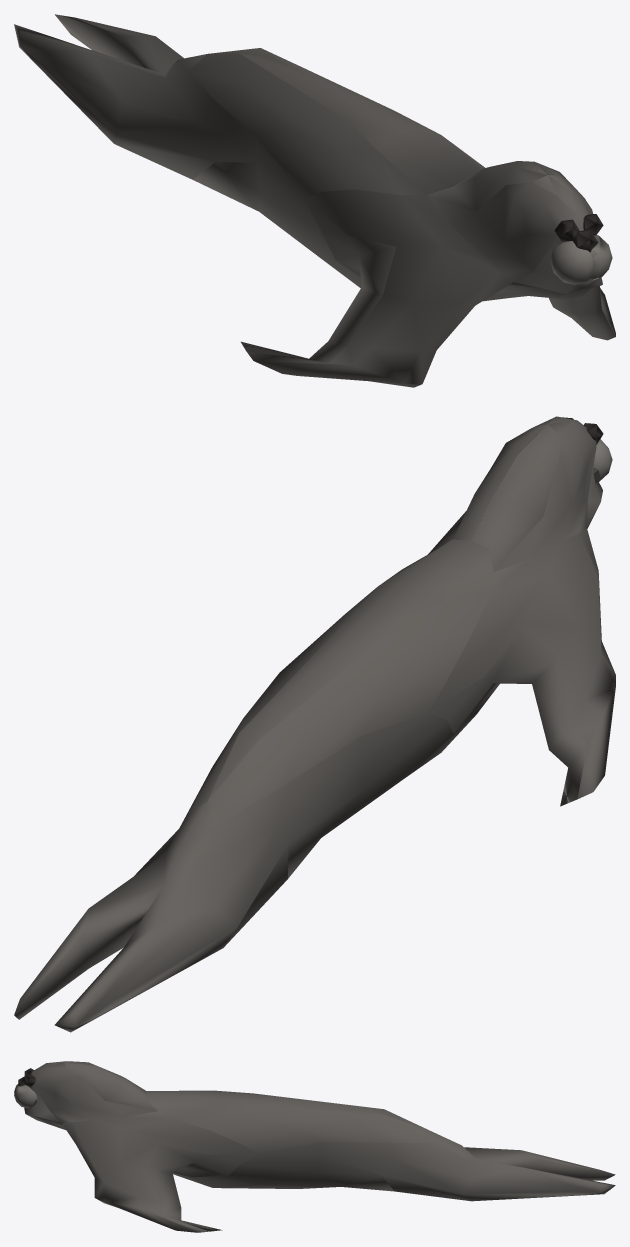
Rendered from FrsSeehund_Kuh.gltf.
The picture shows the model from 3 angles, top to bottom: view 1: azimuth 30°, elevation 25°; view 2: azimuth 150°, elevation 25°; view 3: azimuth 270°, elevation 25°; orthographic projection. The views are drawn at different scales.
Visible parts, largest first — view 1: FrsSeehund_Kuh; view 2: FrsSeehund_Kuh; view 3: FrsSeehund_Kuh.
Part boxes in pixels (x1,y1,x2,y2): FrsSeehund_Kuh: [14, 14, 615, 387]; FrsSeehund_Kuh: [14, 416, 615, 1032]; FrsSeehund_Kuh: [14, 1061, 615, 1232].
Size of the model in its own units: 0.5605 by 0.3725 by 1.6.
